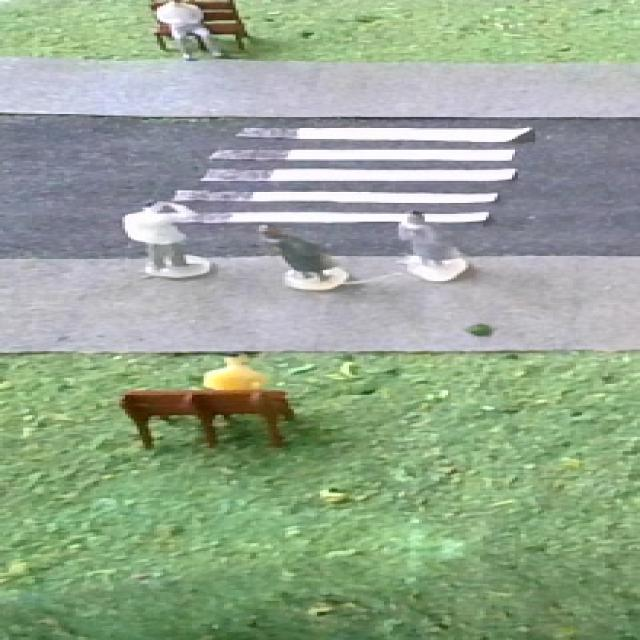person: (124, 198, 214, 279), (255, 222, 348, 292), (394, 208, 472, 279), (150, 2, 228, 64), (196, 352, 276, 392)
